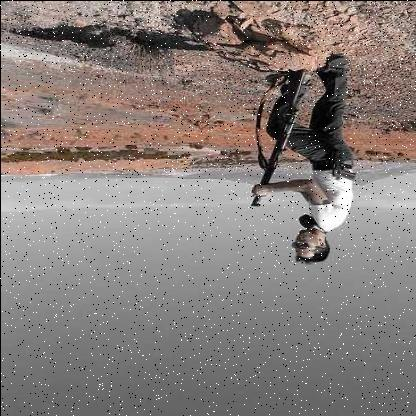rifle: (235, 67, 319, 208)
